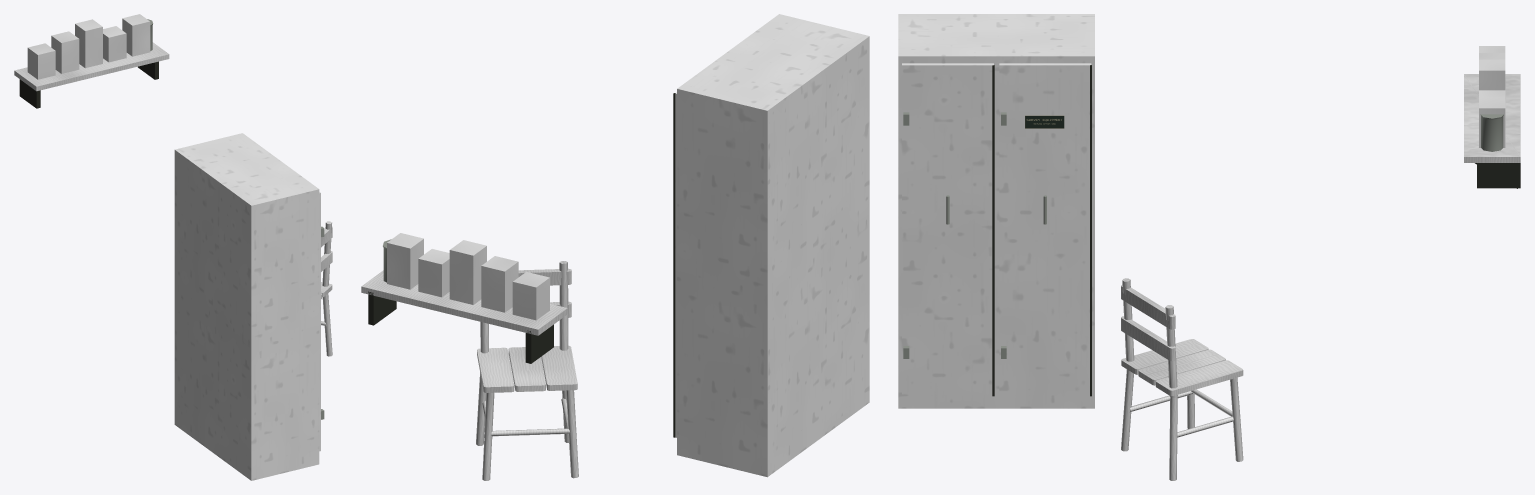
The model's file is SM_FieldStation_Hut_Props_LOD2.glb.
3 renders of one model, left to right at view 1: azimuth 30°, elevation 25°; view 2: azimuth 150°, elevation 25°; view 3: azimuth 270°, elevation 25°, orthographic. The views are drawn at different scales.
Visible parts, largest first — view 1: SM_FieldStation_Hut_Props_LOD2; view 2: SM_FieldStation_Hut_Props_LOD2; view 3: SM_FieldStation_Hut_Props_LOD2.
Boxes of the visible parts, bbox=[...] form: SM_FieldStation_Hut_Props_LOD2: bbox=[14, 14, 332, 480]; SM_FieldStation_Hut_Props_LOD2: bbox=[361, 14, 869, 480]; SM_FieldStation_Hut_Props_LOD2: bbox=[898, 14, 1520, 480].
Bounding box in the file's own units: 1.27 × 1.78 × 2.85.
9 materials, 6 textured.
